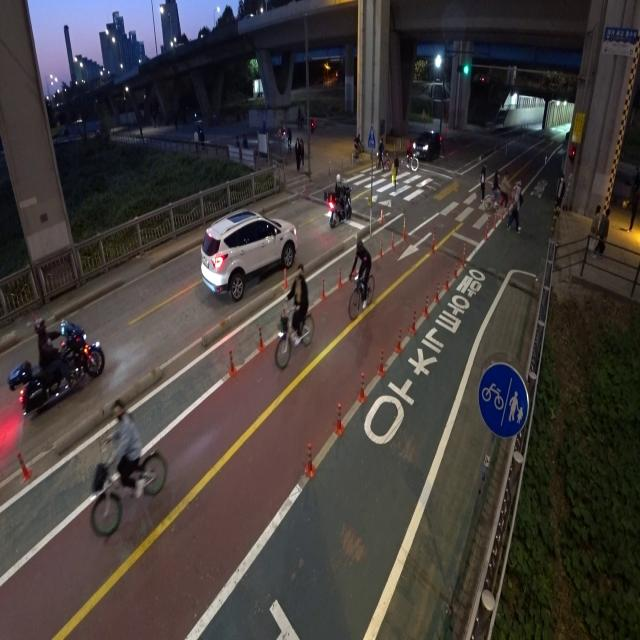Car: (185, 205, 300, 303), (407, 122, 446, 165)
Motorcycle: (7, 291, 111, 429), (328, 173, 351, 228)
